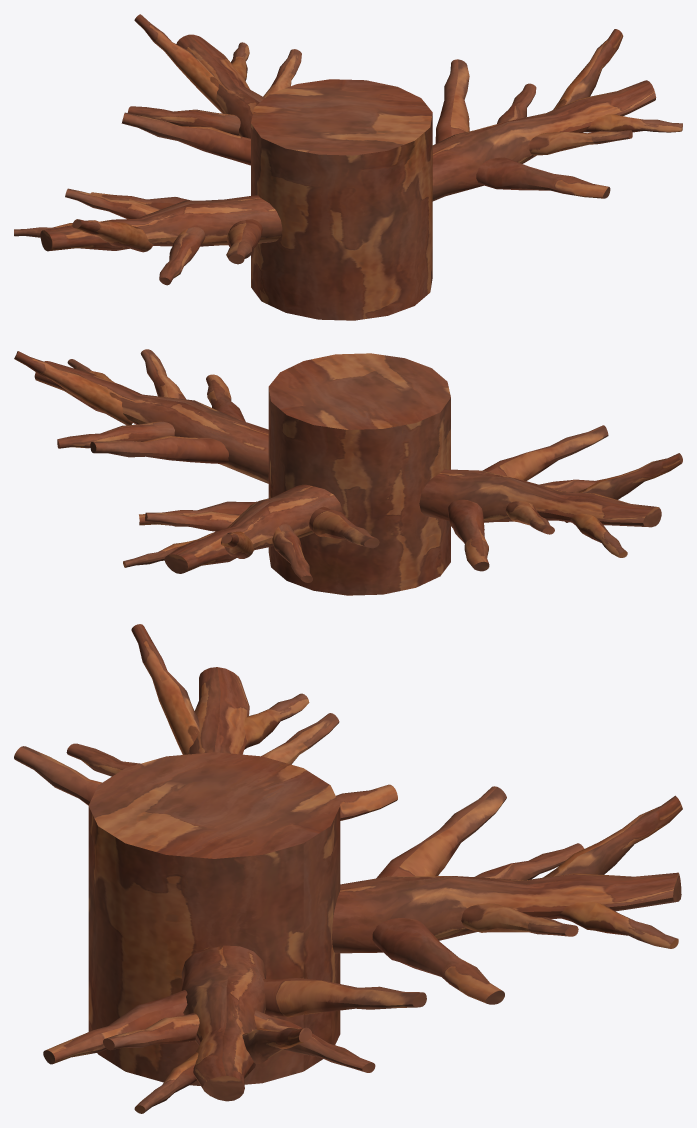
Rendered from ThreeBranchTrunk.fbx.
3 renders of one model, top to bottom at view 1: azimuth 30°, elevation 25°; view 2: azimuth 150°, elevation 25°; view 3: azimuth 270°, elevation 25°, orthographic. The views are drawn at different scales.
Parts seen in each view (by area): view 1: TreRami; view 2: TreRami; view 3: TreRami.
Boxes of the visible parts, left/top/right/bottom form: TreRami: left=14, top=14, right=682, bottom=320; TreRami: left=14, top=349, right=682, bottom=595; TreRami: left=14, top=624, right=682, bottom=1113.
Bounding box in the file's own units: 778 × 200 × 531.
